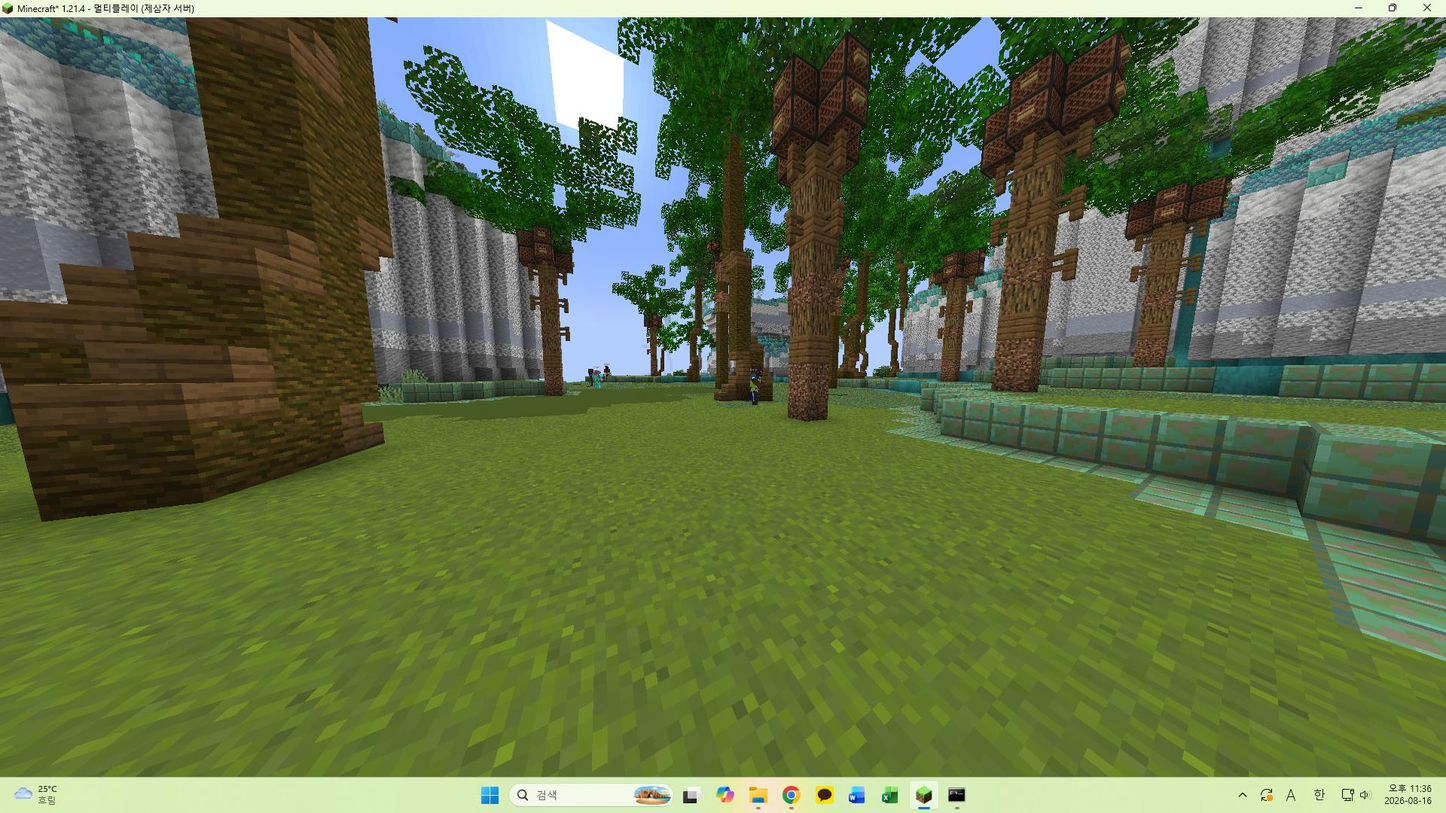Guardian: (743, 362, 771, 404)
